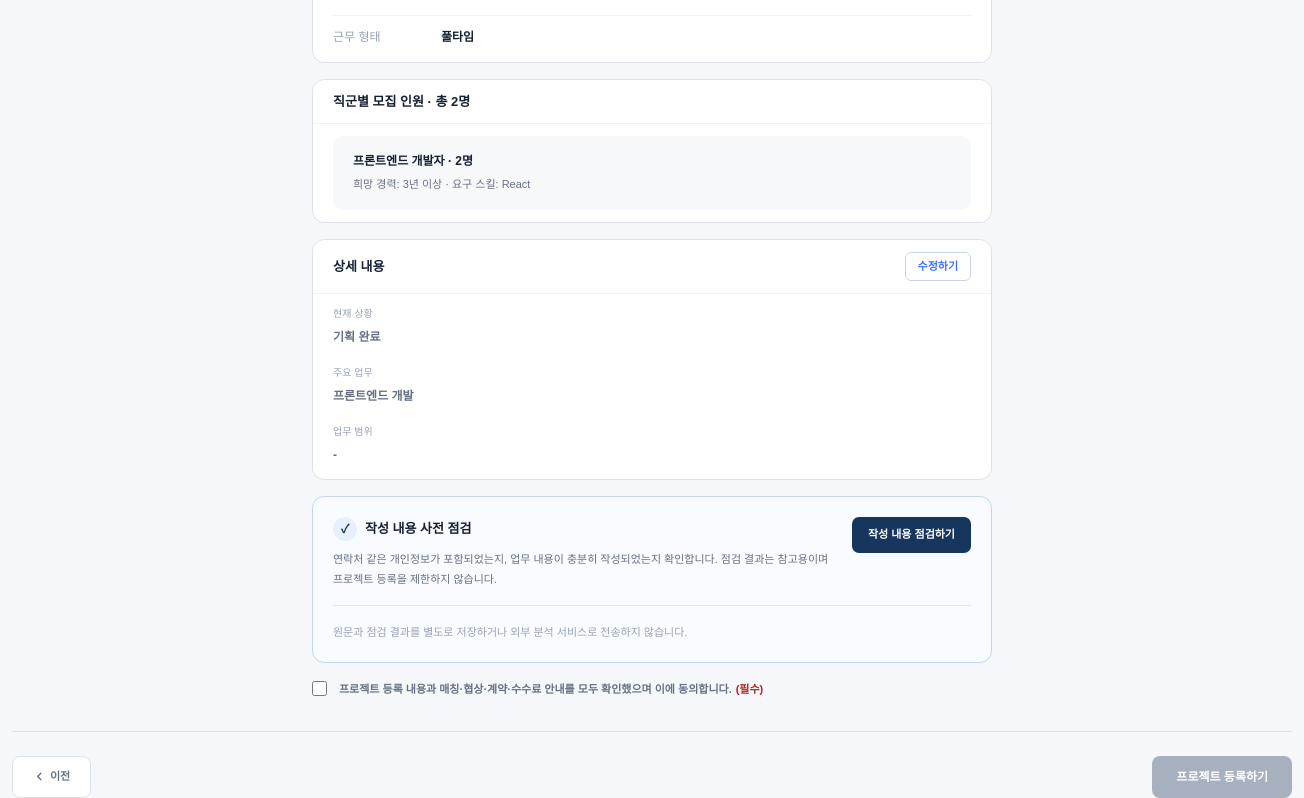
ProjectConfirm › 등록 요청 중에는 중복 제출을 막고 로딩 문구를 표시한다
(page scrolled)
Click the checkbox at (320, 688), box [312,680,327,696]
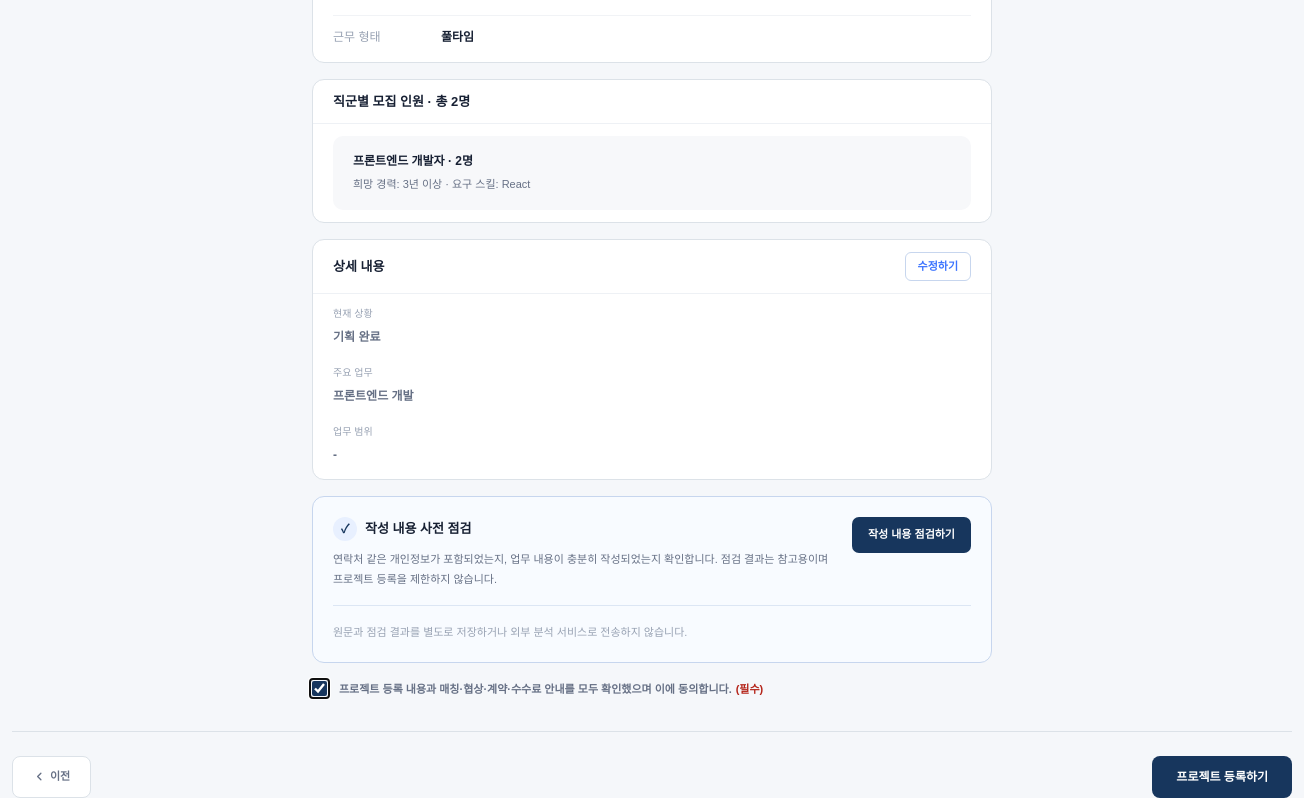
Click the button "프로젝트 등록하기" at (1222, 776), box [1152,756,1292,797]
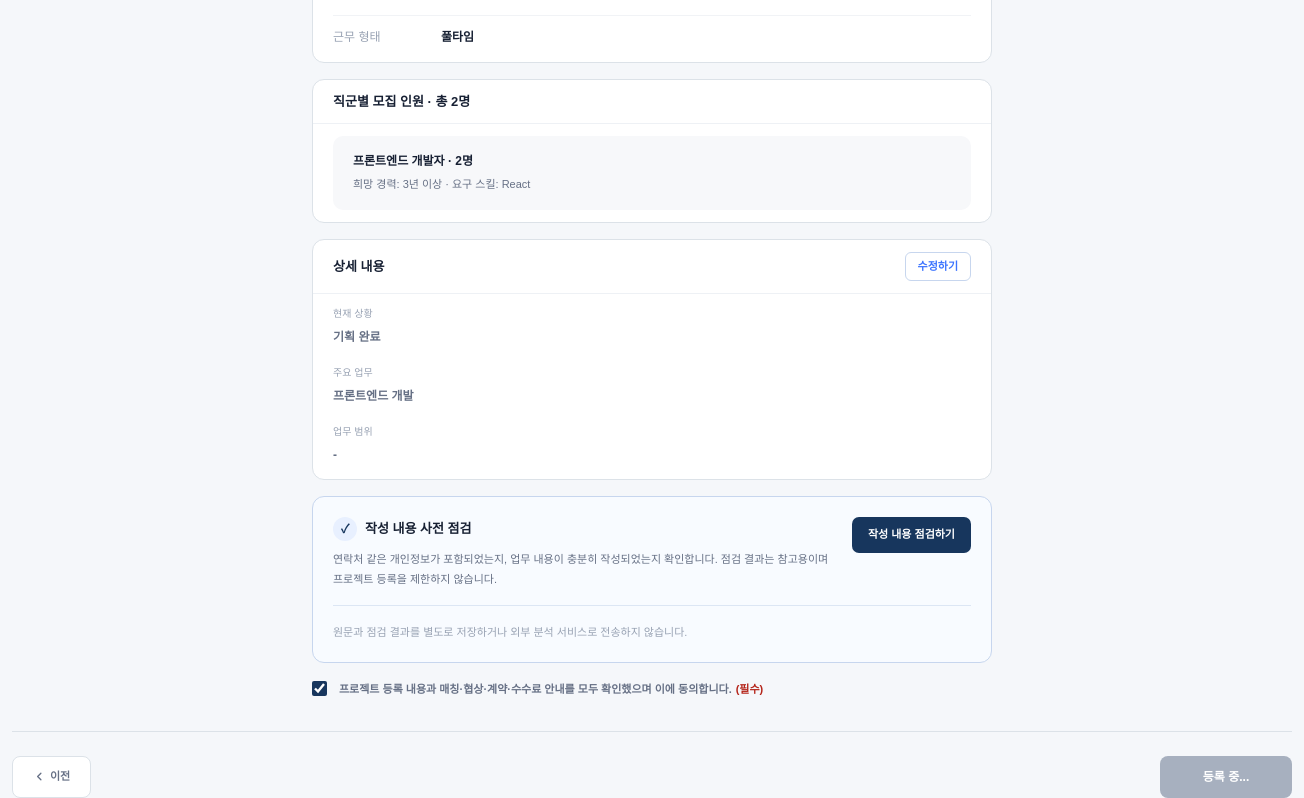
expect the button "등록 중..." is disabled: met, box [1160,756,1292,797]
